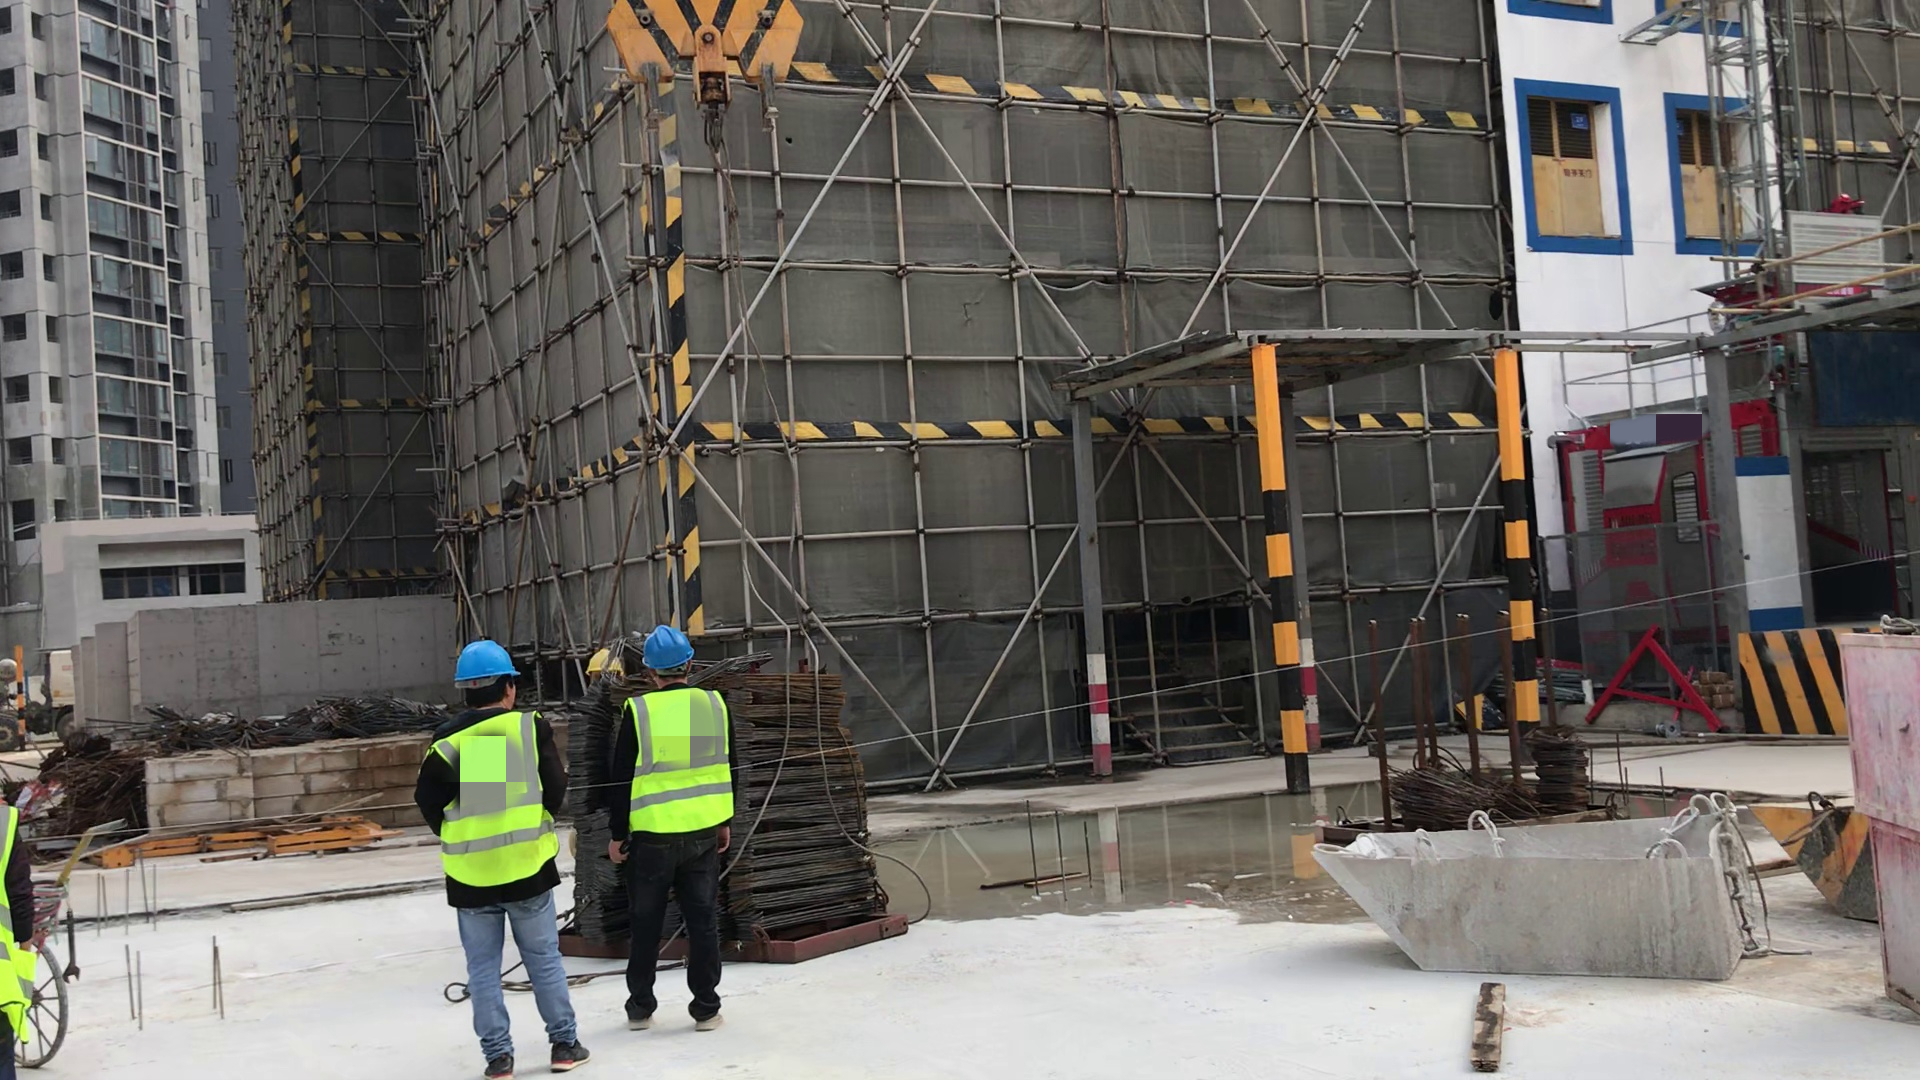helmet: (448, 641, 517, 676), (643, 627, 692, 670), (587, 648, 619, 673)
hook: (604, 1, 806, 147)
hopper: (1323, 819, 1752, 974), (1765, 787, 1875, 918)
person: (416, 641, 587, 1080), (611, 622, 733, 1035)
rebar: (738, 680, 881, 916)
vest: (435, 707, 558, 887), (623, 688, 735, 837)
